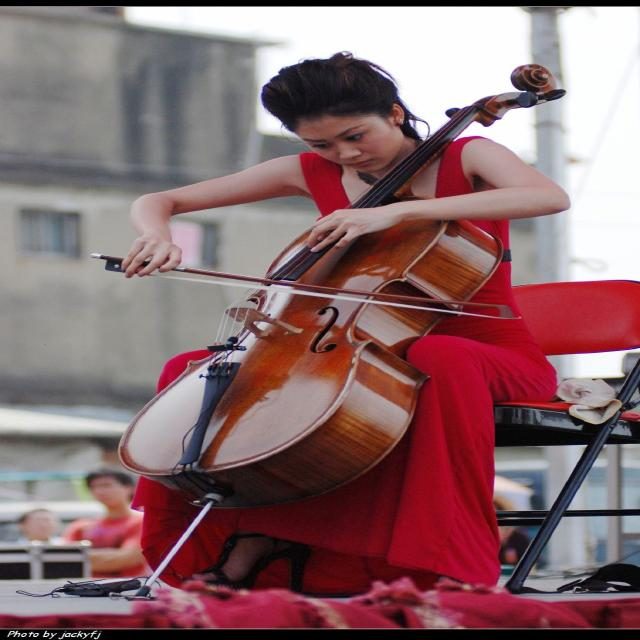cello: (109, 63, 566, 512)
